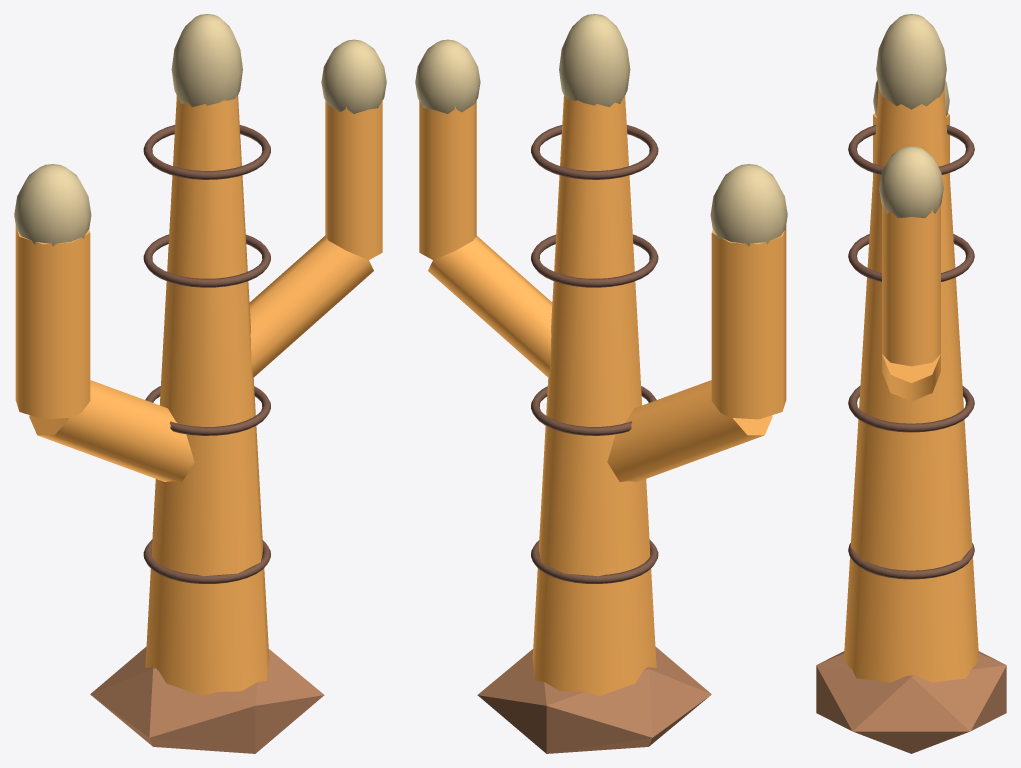
File: glass-cactus.glb
3 views of the same model, side by side, from view 1: azimuth 30°, elevation 25°; view 2: azimuth 150°, elevation 25°; view 3: azimuth 270°, elevation 25° (orthographic).
Visible parts, largest first — view 1: Vesper / glass-cactus; view 2: Vesper / glass-cactus; view 3: Vesper / glass-cactus.
Part boxes in pixels (x1,y1,x2,y2): Vesper / glass-cactus: (14, 14, 386, 753); Vesper / glass-cactus: (415, 14, 787, 753); Vesper / glass-cactus: (816, 14, 1006, 753).
Bounding box in the file's own units: 1.41 × 2.66 × 0.6465.
